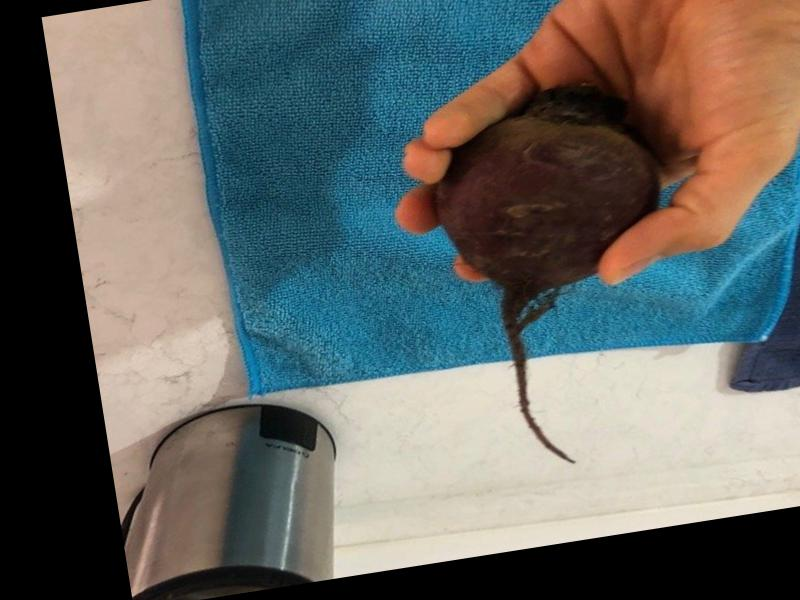Beet: (419, 72, 700, 477)
